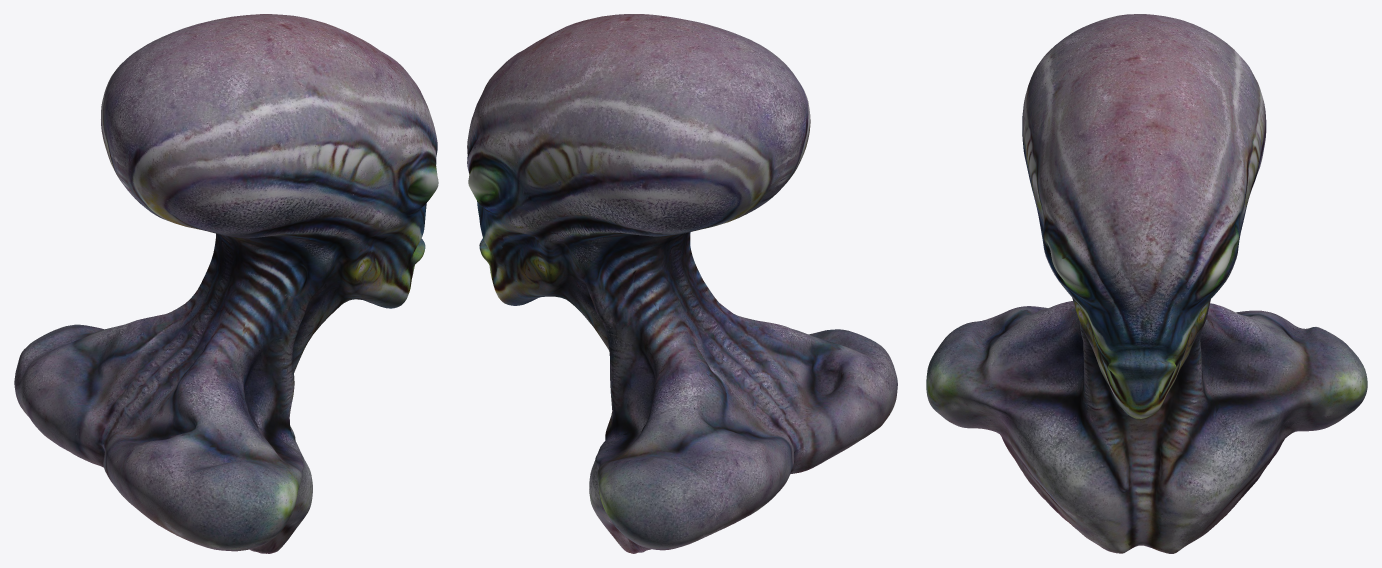
File: alien_head.glb
The picture shows the model from 3 angles, left to right: view 1: azimuth 30°, elevation 25°; view 2: azimuth 150°, elevation 25°; view 3: azimuth 270°, elevation 25°; orthographic projection.
Visible parts, largest first — view 1: high_poly; view 2: high_poly; view 3: high_poly.
Boxes of the visible parts, bbox=[...] form: high_poly: bbox=[14, 14, 438, 553]; high_poly: bbox=[467, 14, 897, 553]; high_poly: bbox=[926, 14, 1367, 553].
Bounding box in the file's own units: 0.718 × 1 × 0.7883.
1 material, 1 textured.
